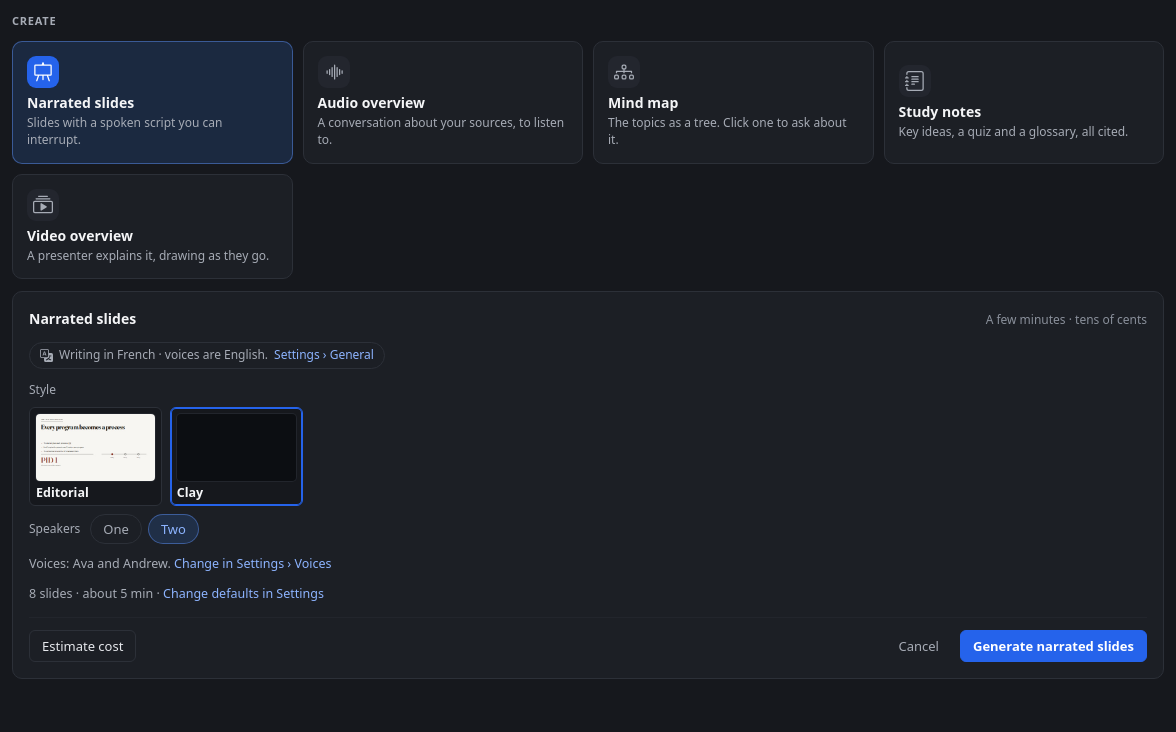
Scenario: the Create panel's options, from the server › draws the styles, formats, lengths and lines the server words
Expected: the text with class "style-n" reads "Clay", x1=177 y1=484 x2=203 y2=501
Click the button "Audio overview" at {"x": 334, "y": 72}, box x1=302 y1=41 x2=583 y2=164
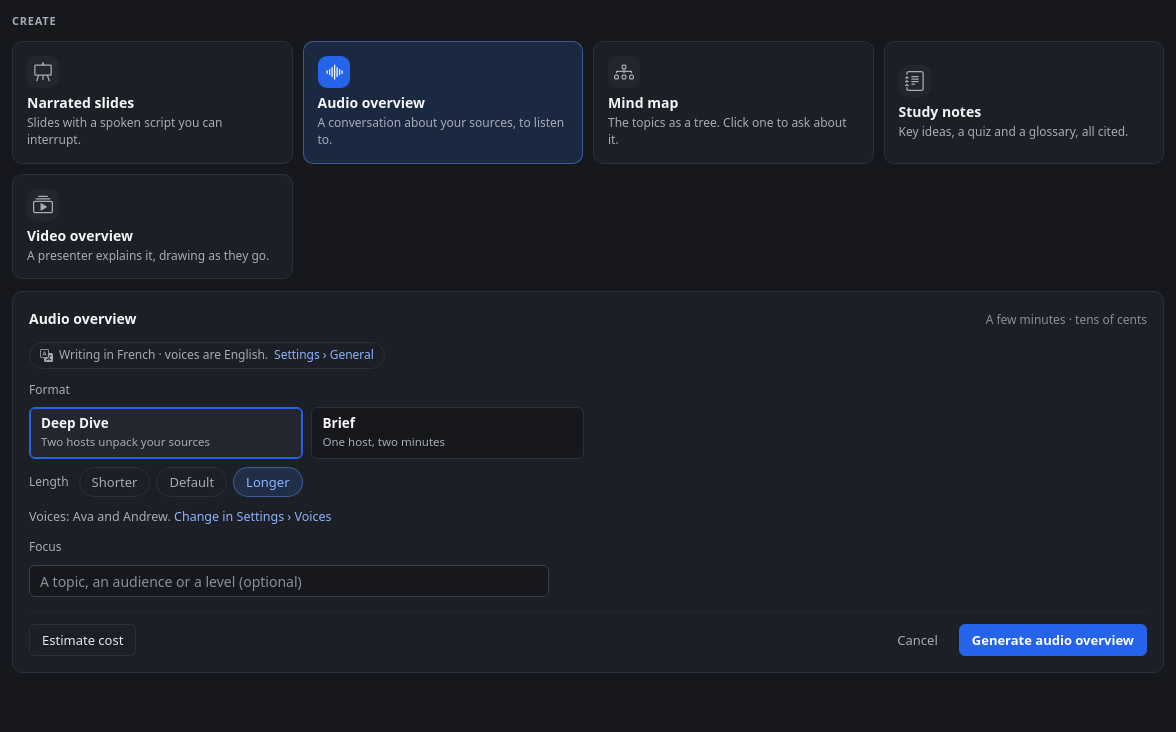
Expected: the text "Voices: Ava and Andrew." is shown, x1=29 y1=508 x2=174 y2=525
Click the radio button labelled "Brief One host, two minutes" at {"x": 447, "y": 433}, box x1=310 y1=407 x2=584 y2=459
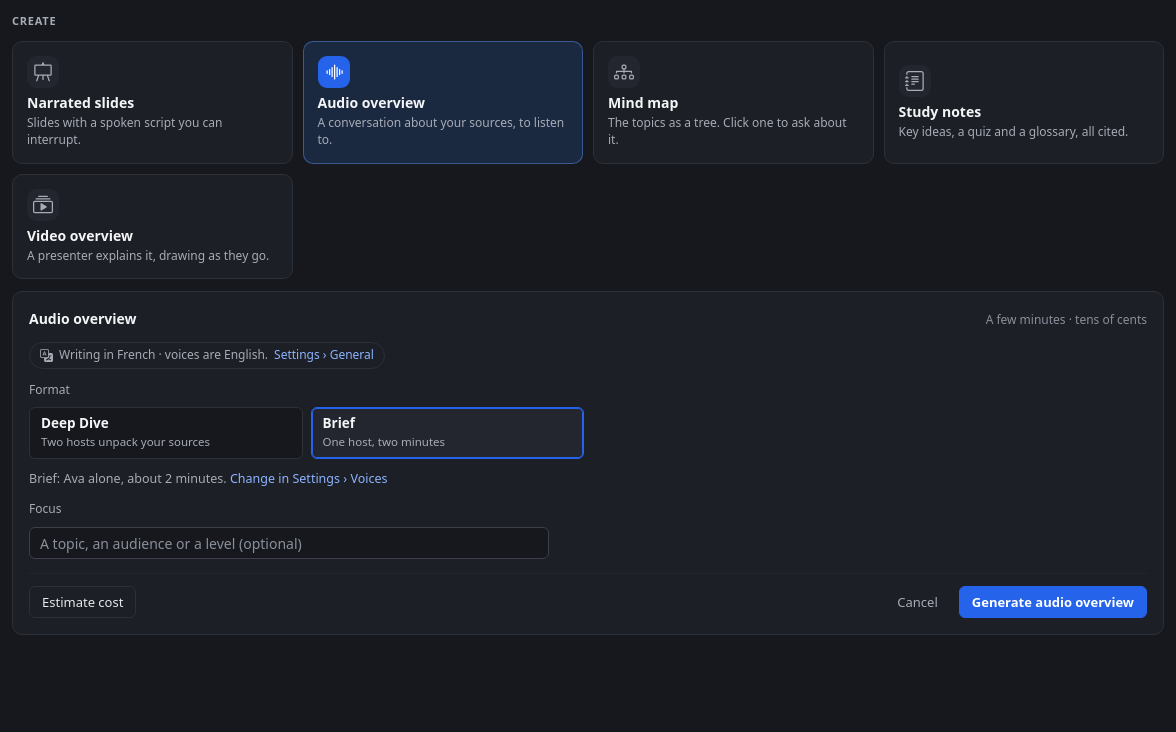
Now the element with class "ao-len" is gone
Now the text "Brief: Ava alone, about 2 minutes." is shown, box x1=29 y1=470 x2=230 y2=487
